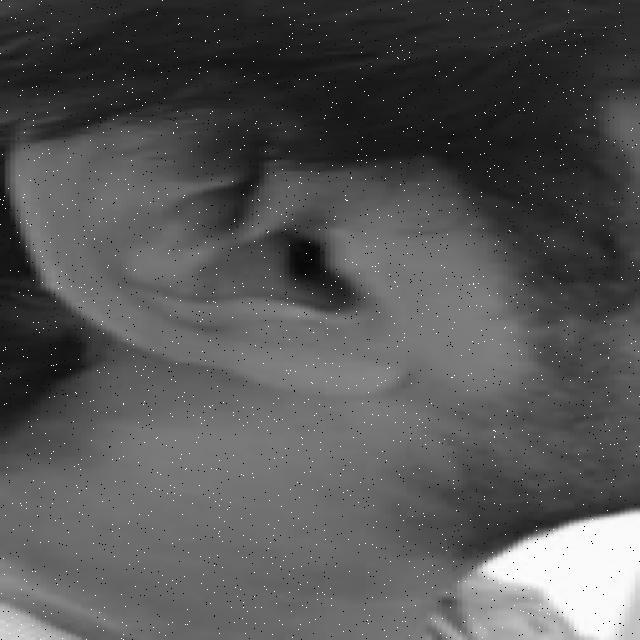ear: (5, 120, 396, 391)
